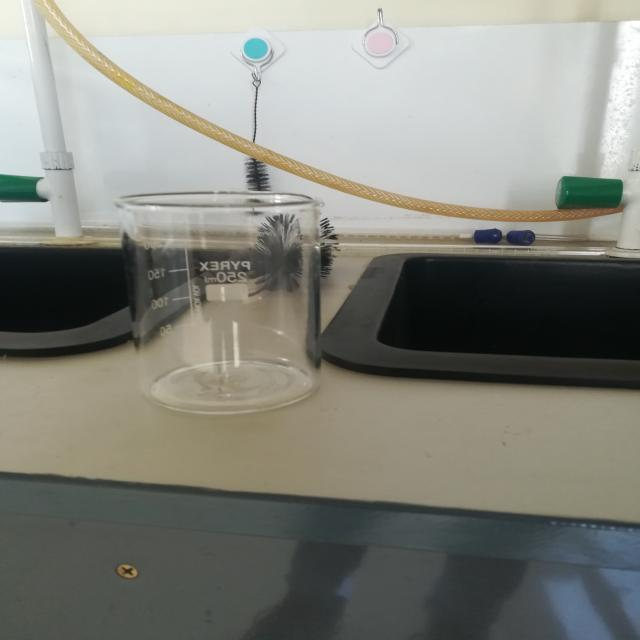Beaker: (86, 156, 380, 442)
